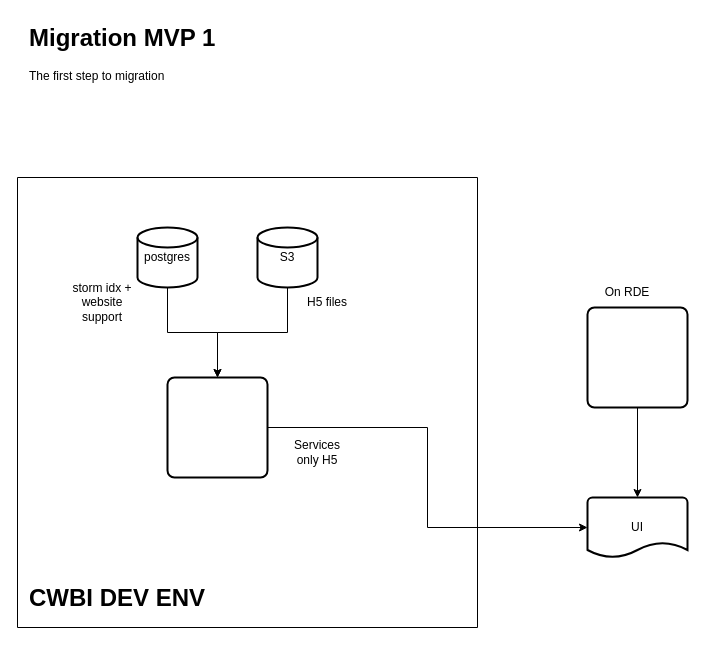
Image size: 706x645. Some labels were removed from this diagram. The shapes that lost their labels are listed below. From the top down, each one's box as (x1, y1, x2, y2) in pixels, then its label:
(586, 306, 688, 408): IIS
(166, 376, 268, 478): mini API (Vincent?)
